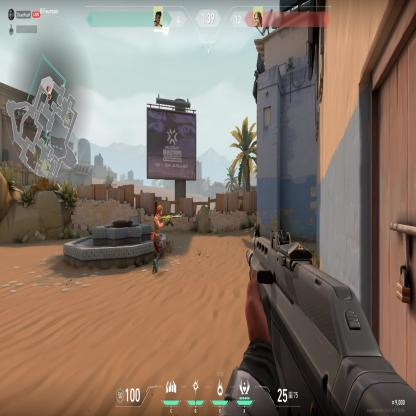enemy: (151, 203, 175, 276)
